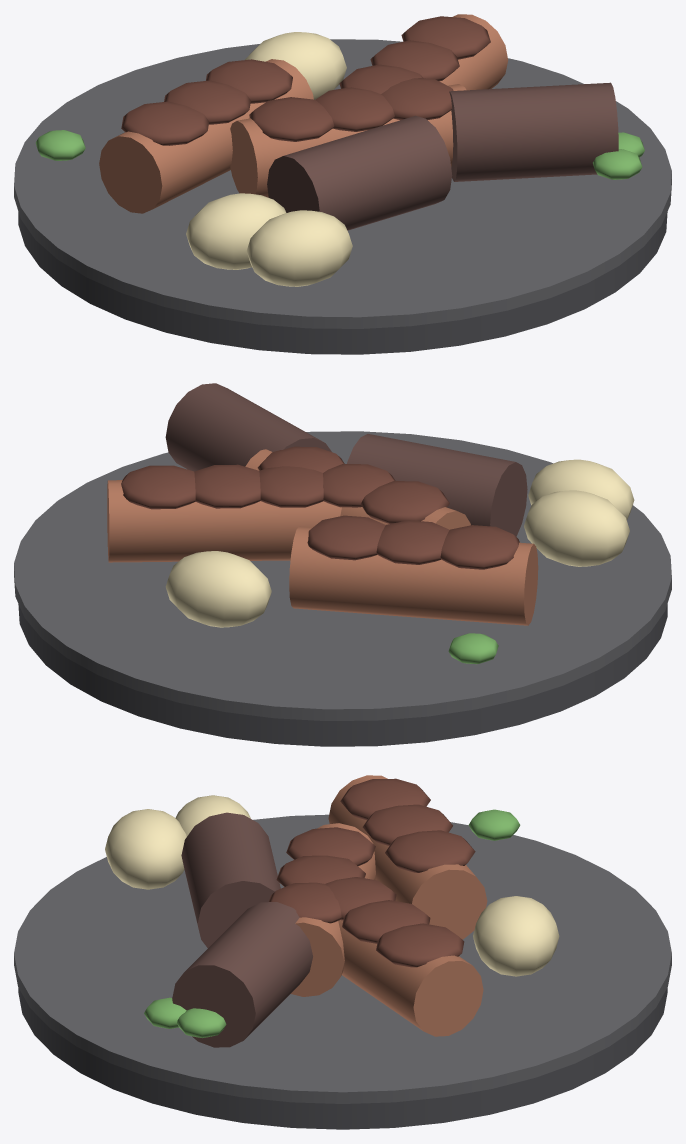
The model's file is parrilla.glb.
The picture shows the model from 3 angles, top to bottom: view 1: azimuth 30°, elevation 25°; view 2: azimuth 150°, elevation 25°; view 3: azimuth 270°, elevation 25°; orthographic projection.
Size of the model in its own units: 0.304 by 0.065 by 0.304.
